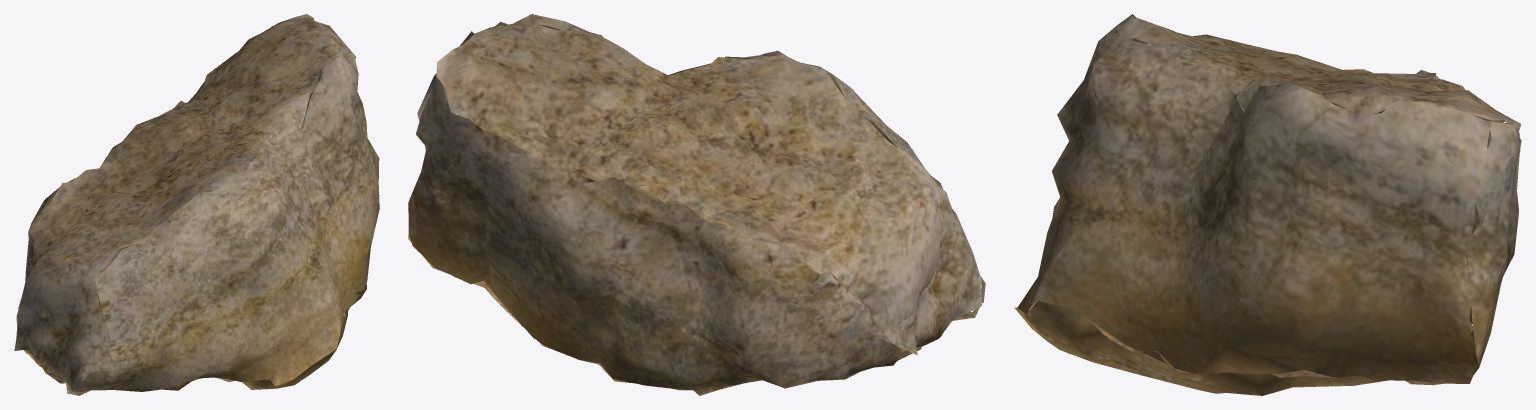
File: namaqualand_rocks_01_v4.glb
3 renders of one model, left to right at view 1: azimuth 30°, elevation 25°; view 2: azimuth 150°, elevation 25°; view 3: azimuth 270°, elevation 25°, orthographic. The views are drawn at different scales.
Visible parts, largest first — view 1: lod0; view 2: lod0; view 3: lod0.
Boxes of the visible parts, x1,y1,x2,y2 form: lod0: [14, 14, 379, 395]; lod0: [408, 14, 985, 395]; lod0: [1014, 14, 1521, 395].
Size of what is drawn, in the model's own units: 0.1999 by 0.1226 by 0.157.
1 material, 1 textured.
